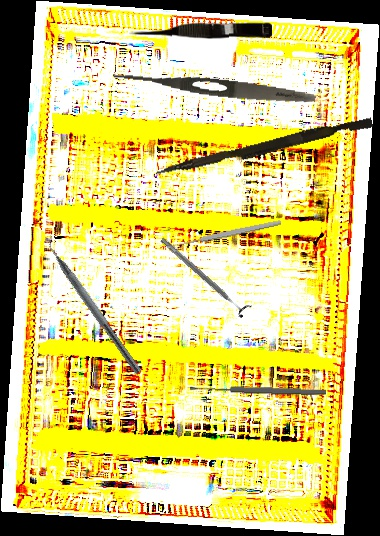Chopper: (38, 230, 151, 375)
Dressing Forceps: (111, 67, 317, 108)
Fixation Ring: (155, 232, 253, 320)
Micro Scissor: (128, 19, 273, 41)
Pusher: (154, 111, 374, 185)
Surgical Spoon: (166, 219, 282, 250), (189, 383, 327, 397)
